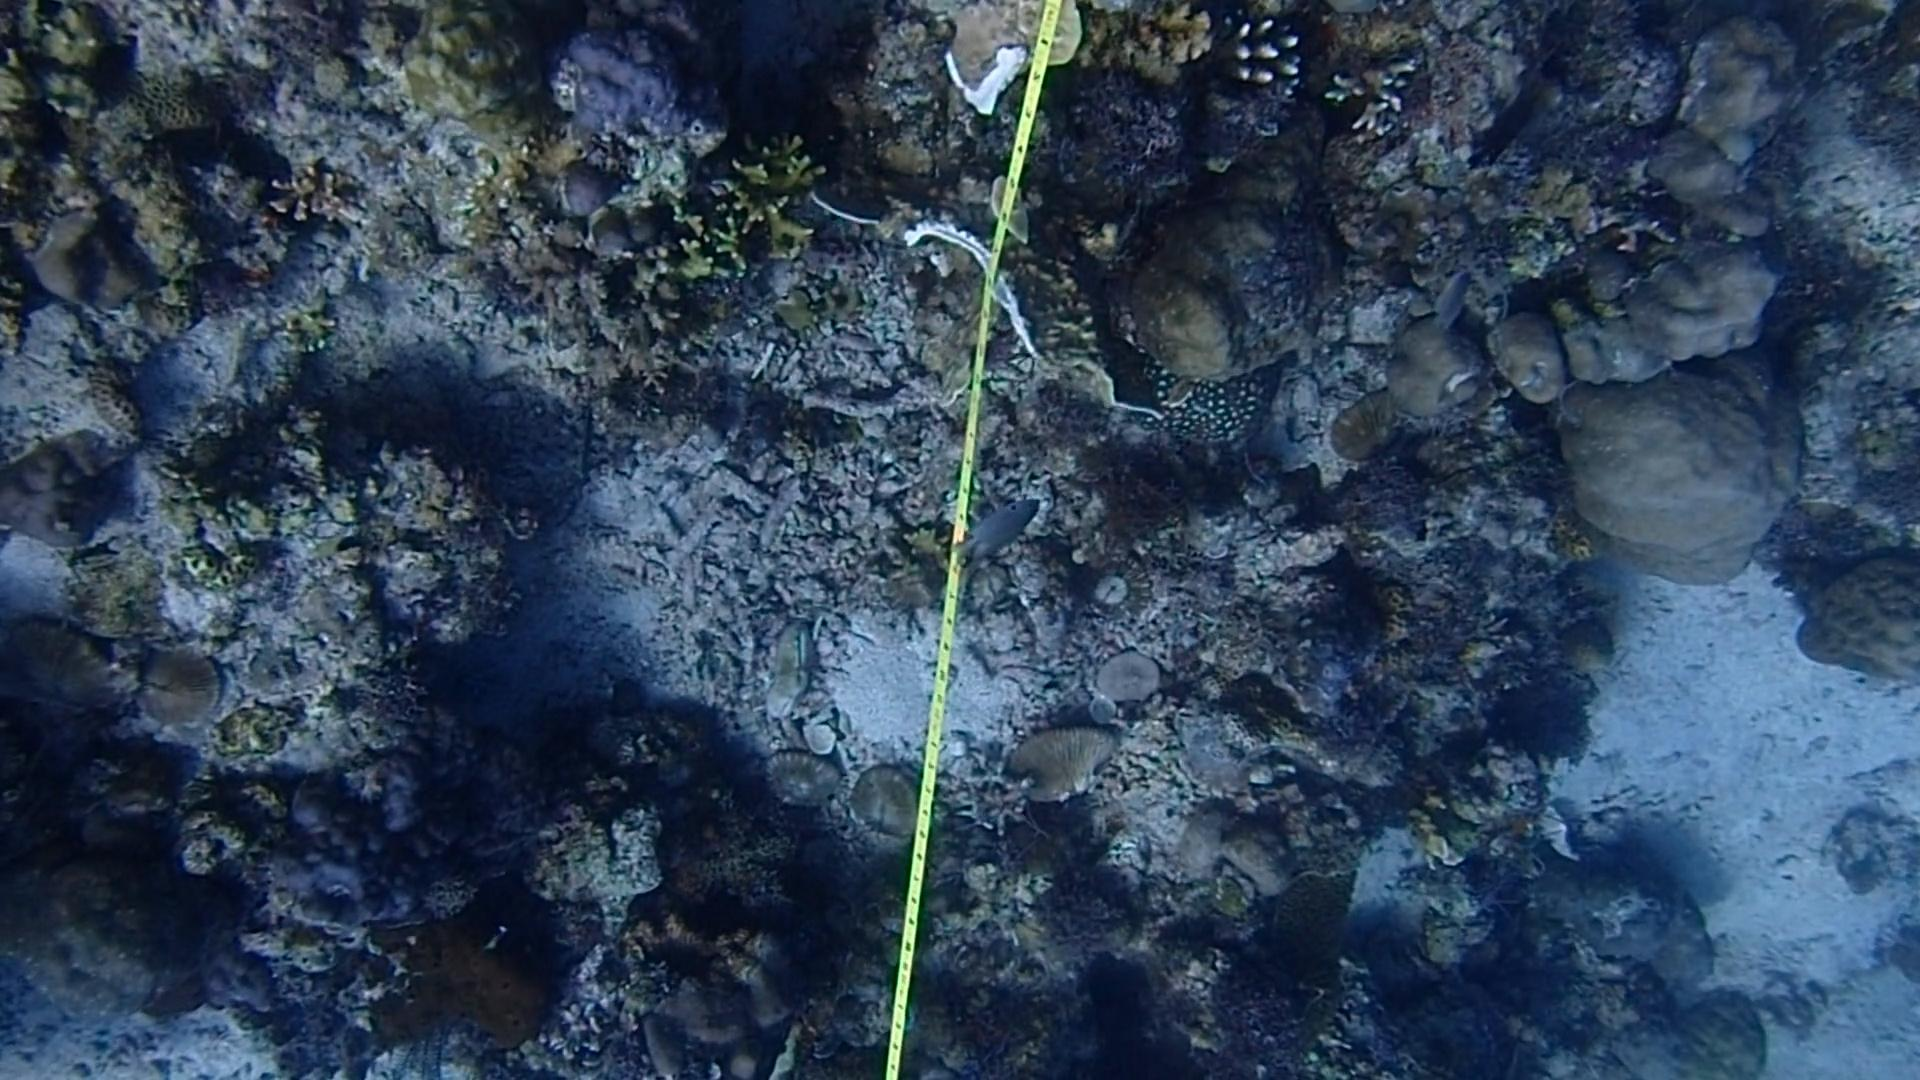Light Fish: (938, 485, 1047, 575)
